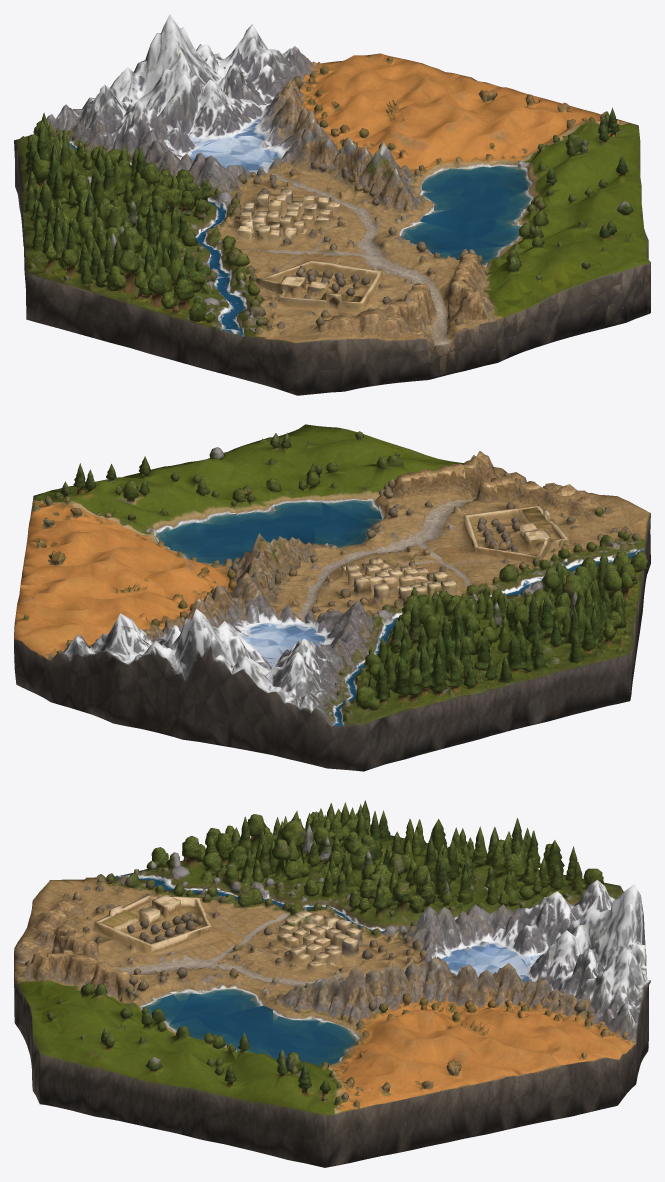
The model's file is sahar_basin.glb.
3 views of the same model, one above another, from view 1: azimuth 30°, elevation 25°; view 2: azimuth 150°, elevation 25°; view 3: azimuth 270°, elevation 25° (orthographic).
Visible parts, largest first — view 1: outland_scenery, marj_region, naharin_region, sur_region, wall_scenery; view 2: outland_scenery, naharin_region, marj_region, wall_scenery, sur_region; view 3: outland_scenery, marj_region, naharin_region, sur_region, wall_scenery.
Part boxes in pixels (x1,y1,x2,y2): outland_scenery: (243, 53, 650, 395); marj_region: (188, 148, 554, 379); naharin_region: (14, 112, 257, 378); sur_region: (176, 105, 436, 235); wall_scenery: (23, 14, 318, 159); outland_scenery: (14, 424, 650, 706); naharin_region: (327, 541, 647, 771); marj_region: (131, 450, 649, 635); wall_scenery: (49, 597, 374, 768); sur_region: (162, 533, 432, 659); outland_scenery: (29, 874, 636, 1167); marj_region: (14, 873, 408, 1071); naharin_region: (105, 800, 623, 933); sur_region: (250, 906, 534, 1034); wall_scenery: (496, 880, 650, 1079).
Bounding box in the file's own units: 1 × 0.2031 × 0.9051.
1 material, 1 textured.
